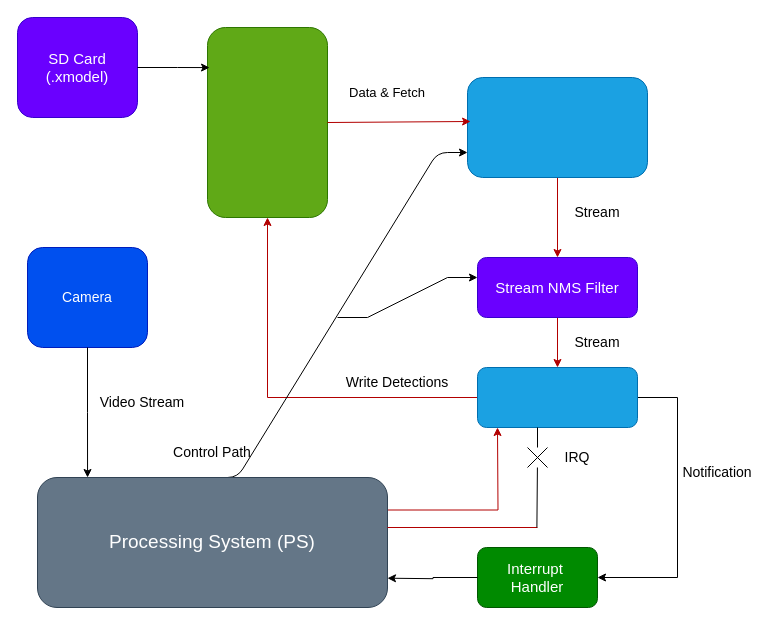
Some shapes in this 769 by 625 pixel diagram are drawn without their labels. The box of each missing label's shape, as (x1, y1, x2, y2) in pixels:
DMA Memory Write: (476, 366, 638, 428)
DPU Acceleration Core: (466, 76, 648, 178)
System Memory (DDR): (206, 26, 328, 218)
